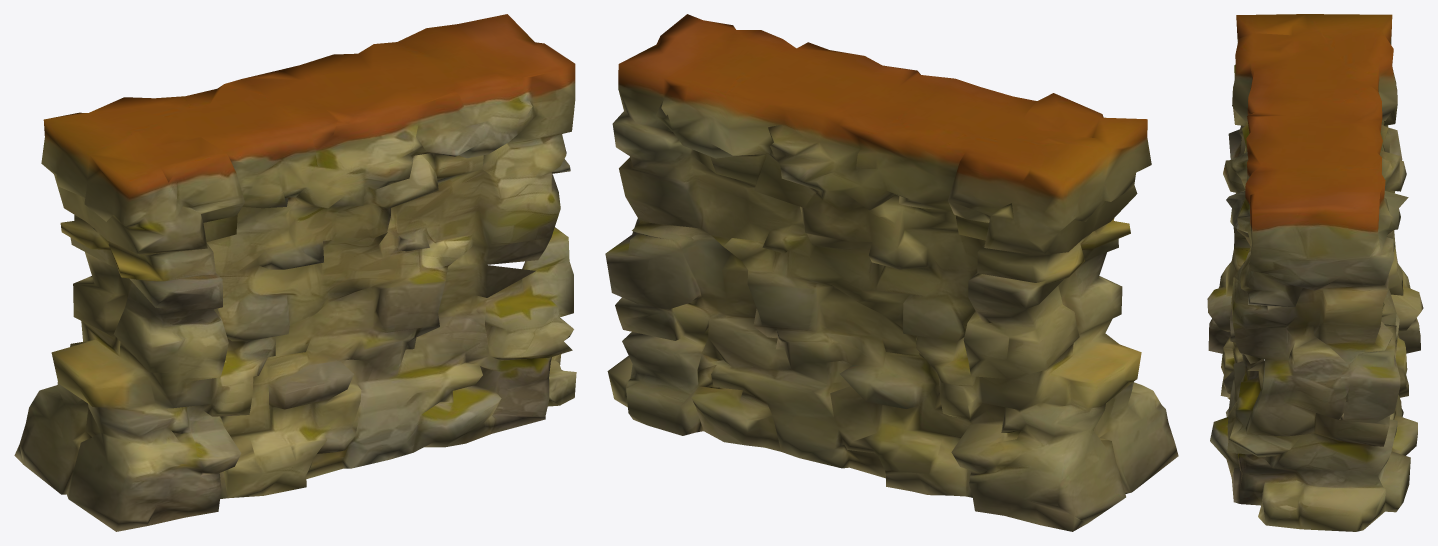
File: tripo_layered_cliff_face.glb
3 views of the same model, side by side, from view 1: azimuth 30°, elevation 25°; view 2: azimuth 150°, elevation 25°; view 3: azimuth 270°, elevation 25° (orthographic). The views are drawn at different scales.
Visible parts, largest first — view 1: layered_cliff_face; view 2: layered_cliff_face; view 3: layered_cliff_face.
Part boxes in pixels (bbox=[...]): layered_cliff_face: bbox=[14, 14, 576, 531]; layered_cliff_face: bbox=[605, 14, 1178, 531]; layered_cliff_face: bbox=[1207, 14, 1423, 531].
Size of the model in its own units: 6 by 4 by 2.5.
1 material, 1 textured.
